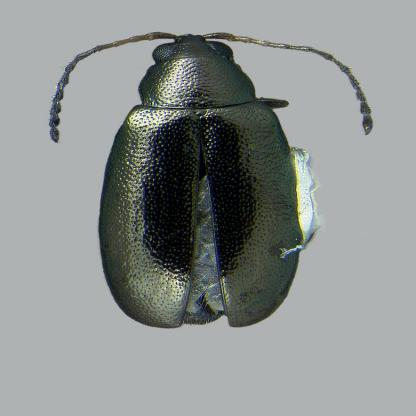beetle: (39, 21, 372, 332)
